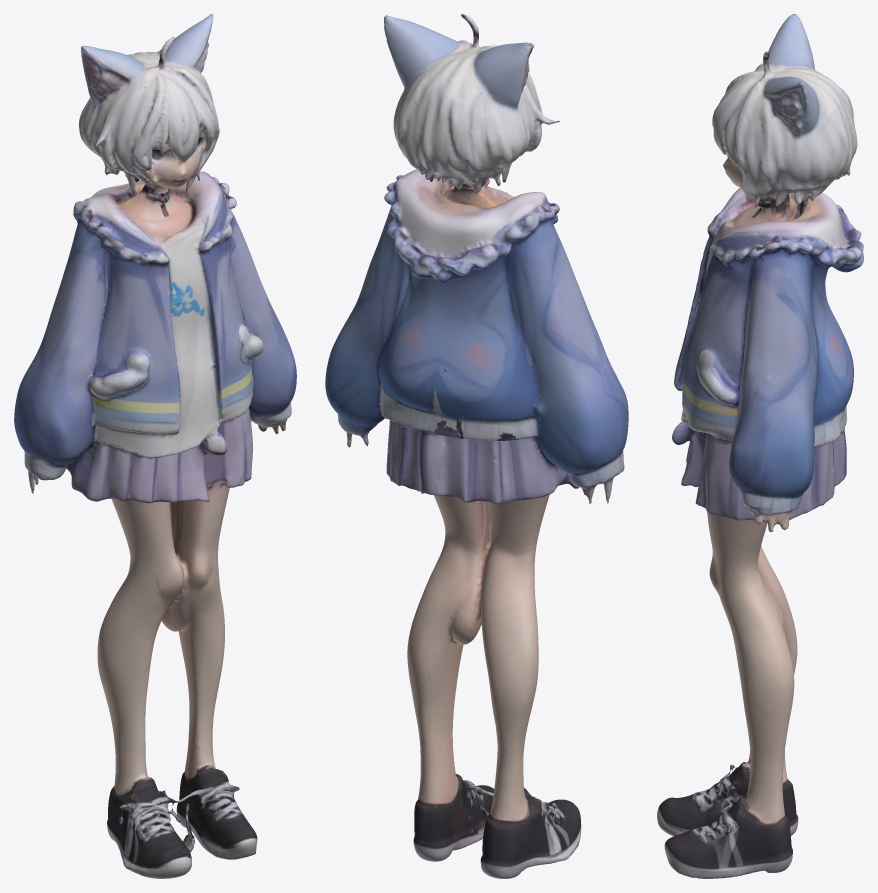
The model's file is sora-model.glb.
3 views of the same model, side by side, from view 1: azimuth 30°, elevation 25°; view 2: azimuth 150°, elevation 25°; view 3: azimuth 270°, elevation 25° (orthographic). The views are drawn at different scales.
Bounding box in the file's own units: 0.6984 × 2 × 0.4657.
Materials: 1 (1 with a texture image).
